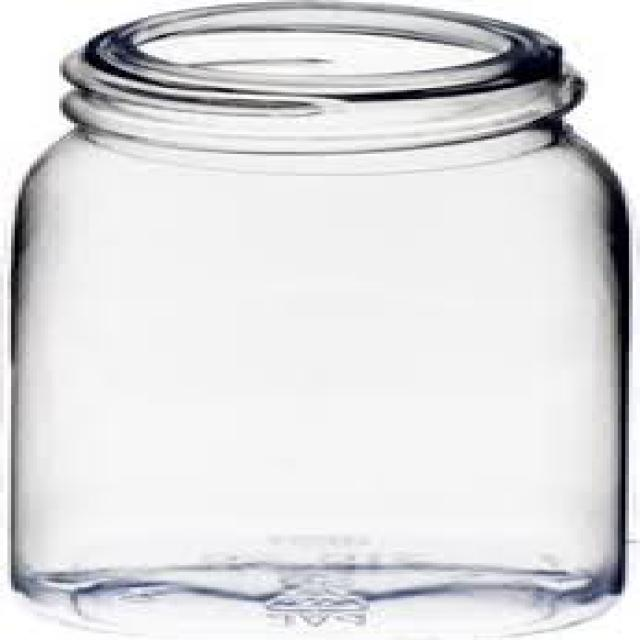glass: (11, 0, 625, 631)
